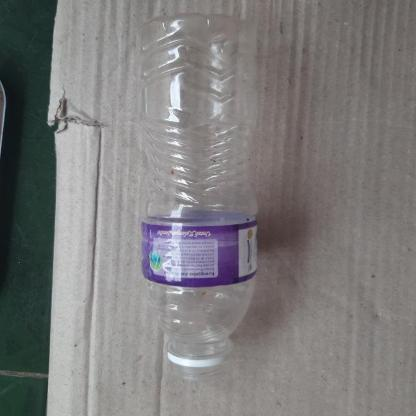Plastic Bottle: (133, 14, 257, 382)
